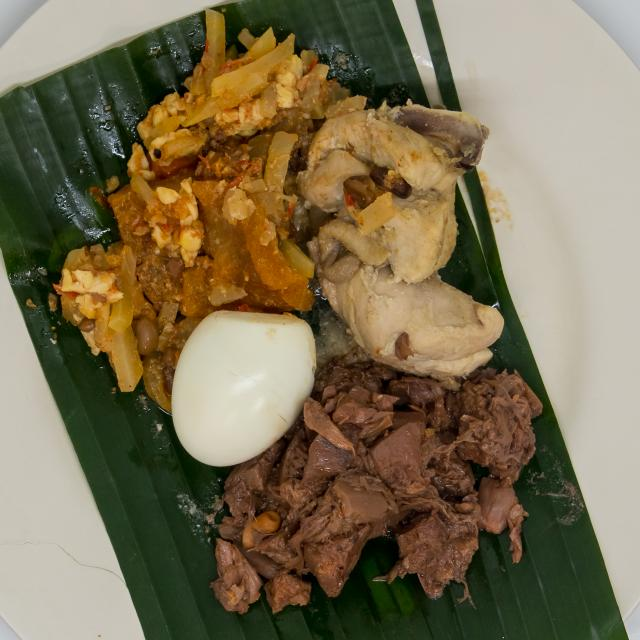Gudeg-Jogja: (28, 0, 559, 615)
